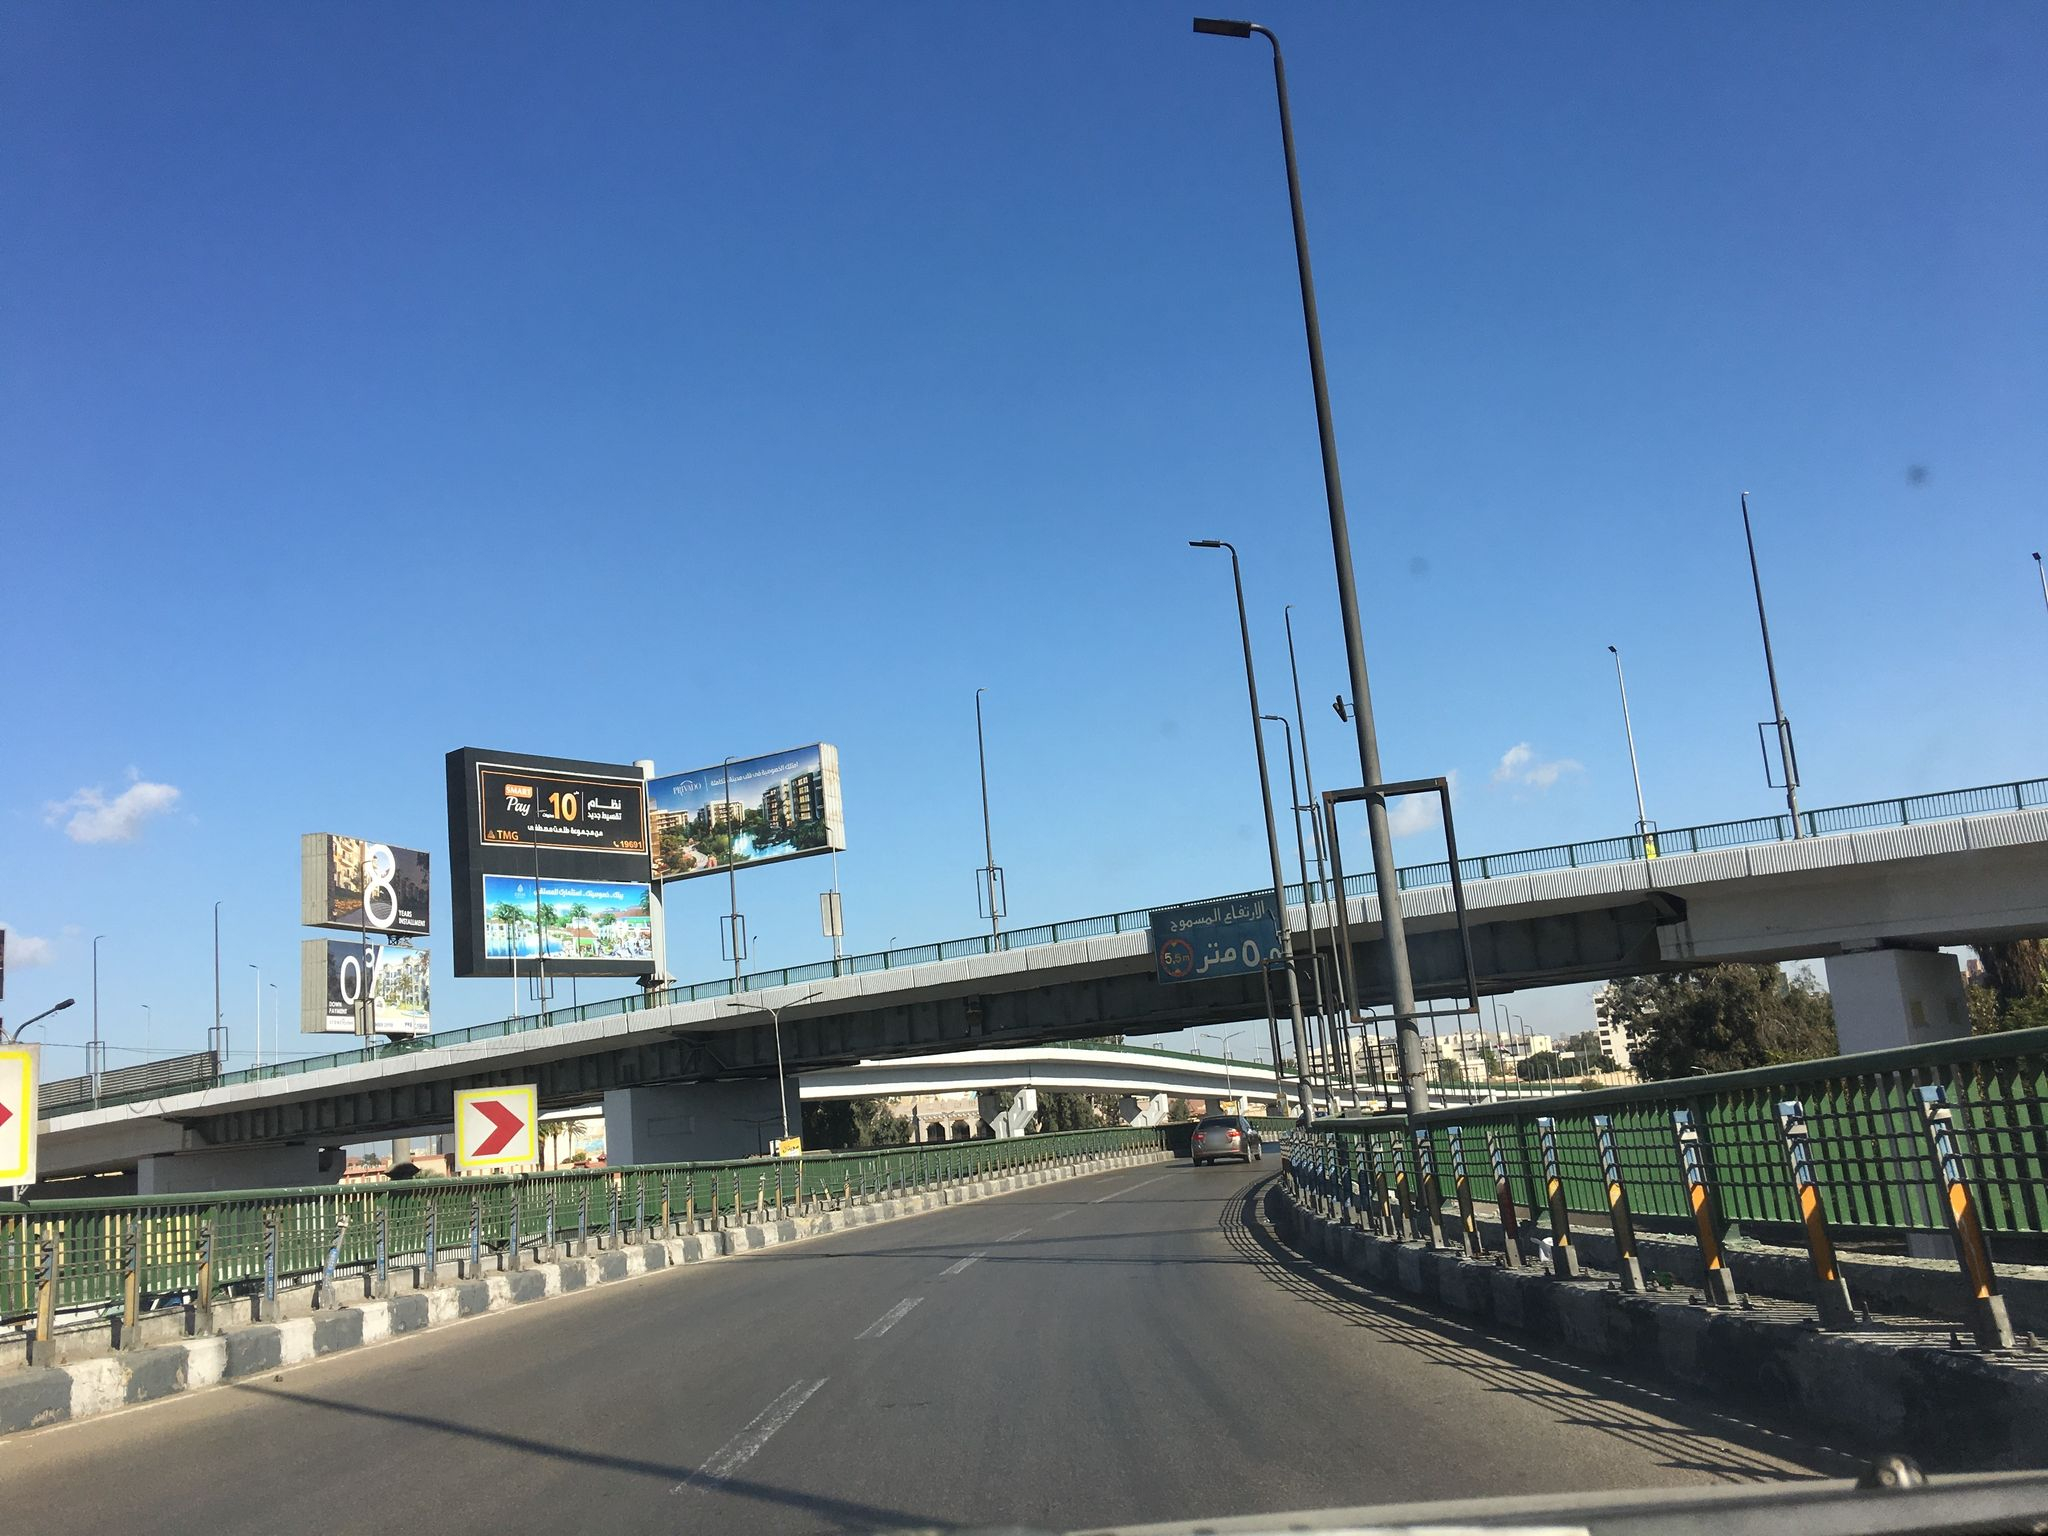car: (1190, 1113, 1263, 1163)
